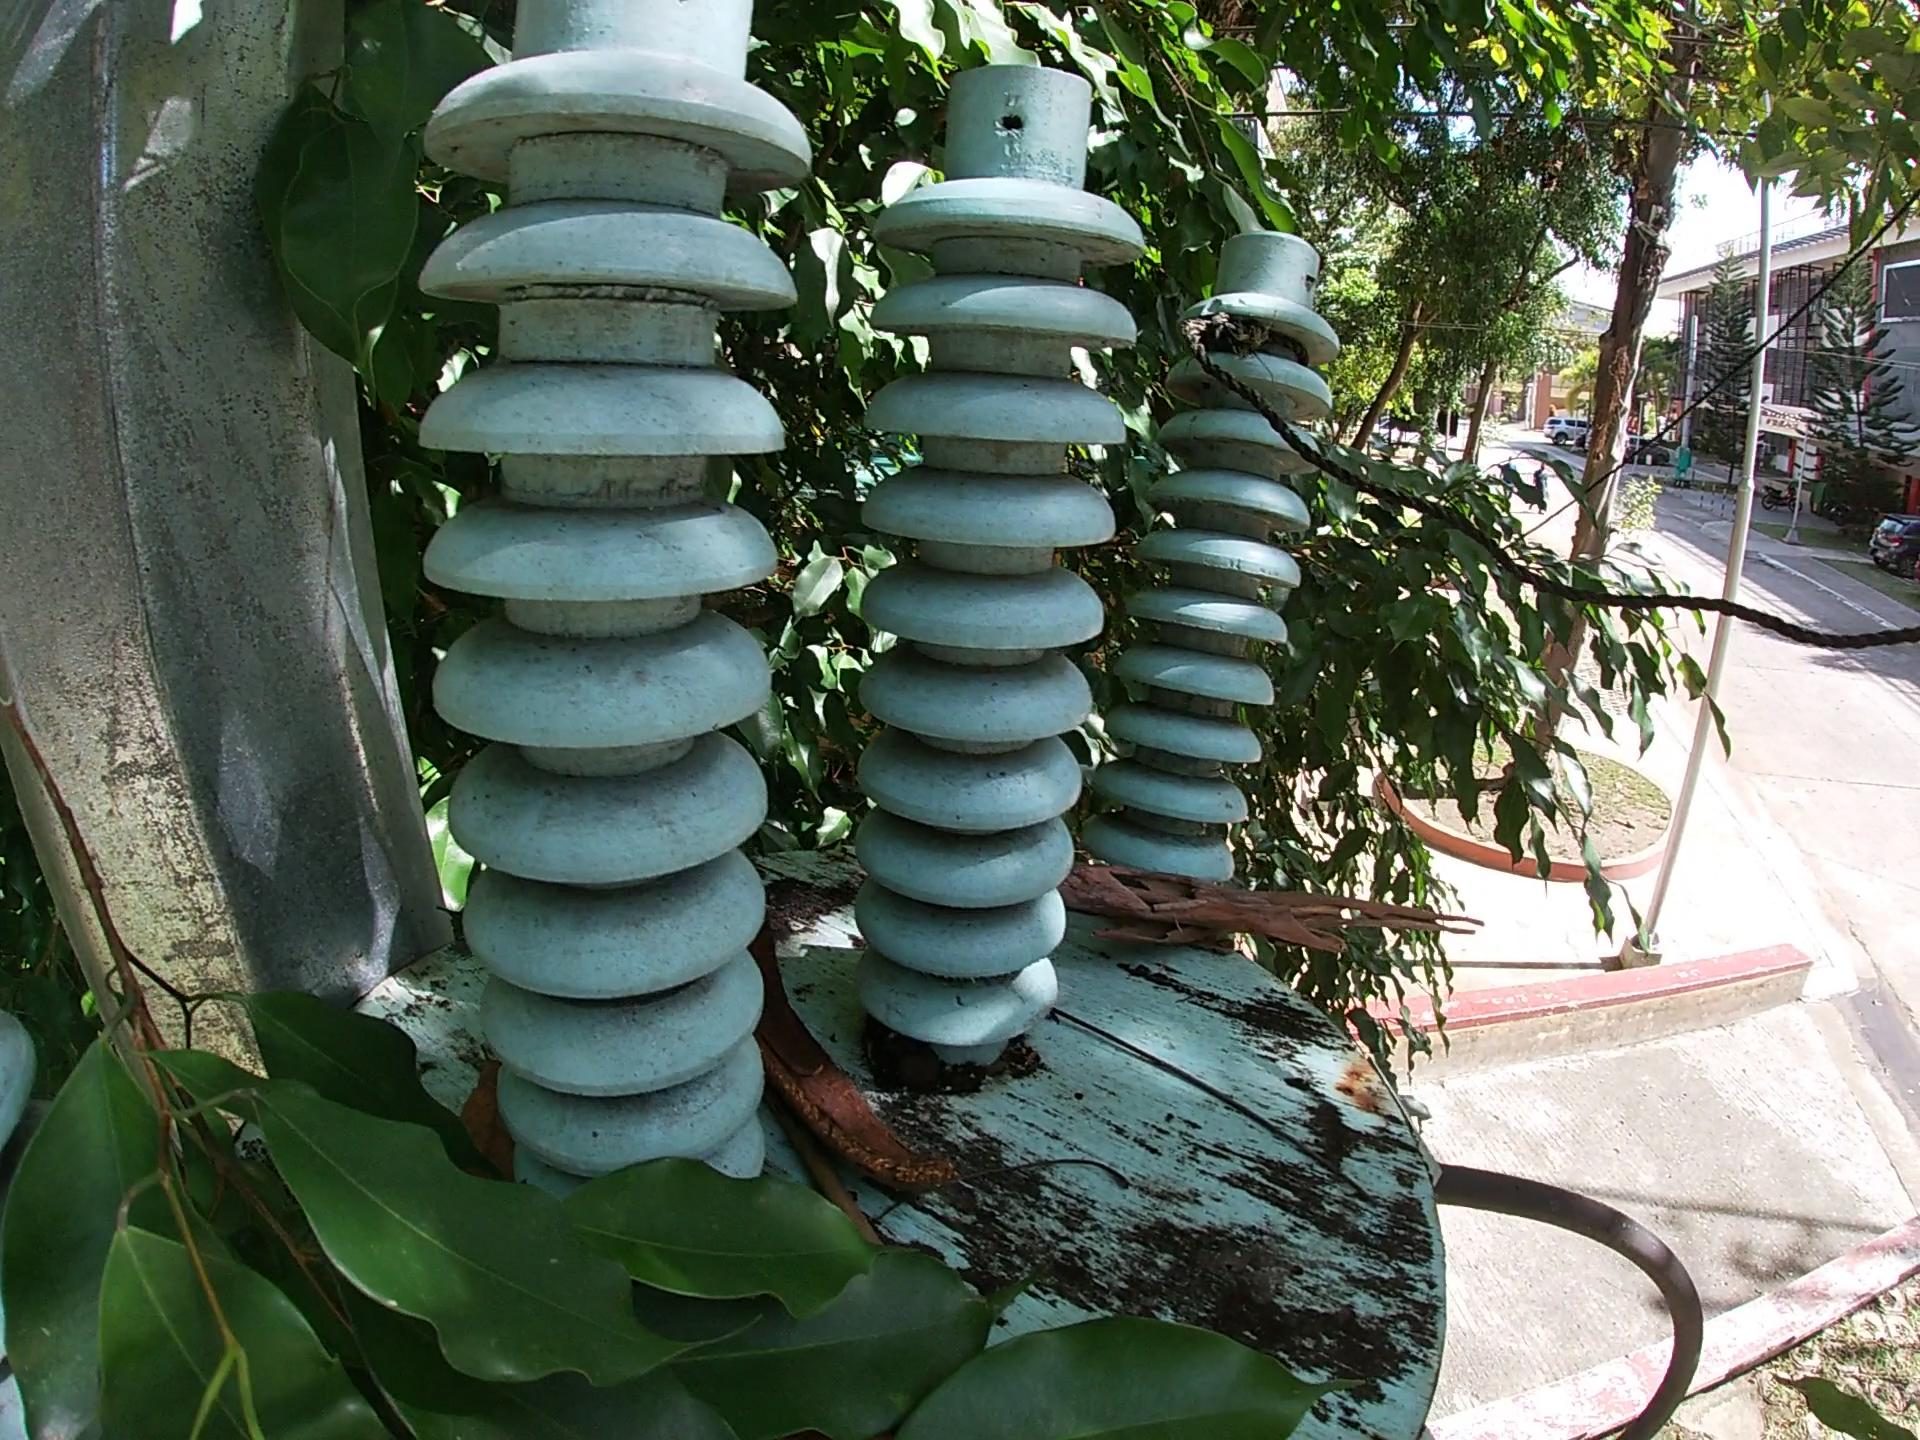branch with leaves: (8, 691, 1367, 1440)
leaf: (447, 1038, 500, 1156)
mahogany fruit: (736, 924, 958, 1198)
tree branch: (1017, 1000, 1352, 1180), (1058, 835, 1456, 977), (788, 1119, 884, 1263)
